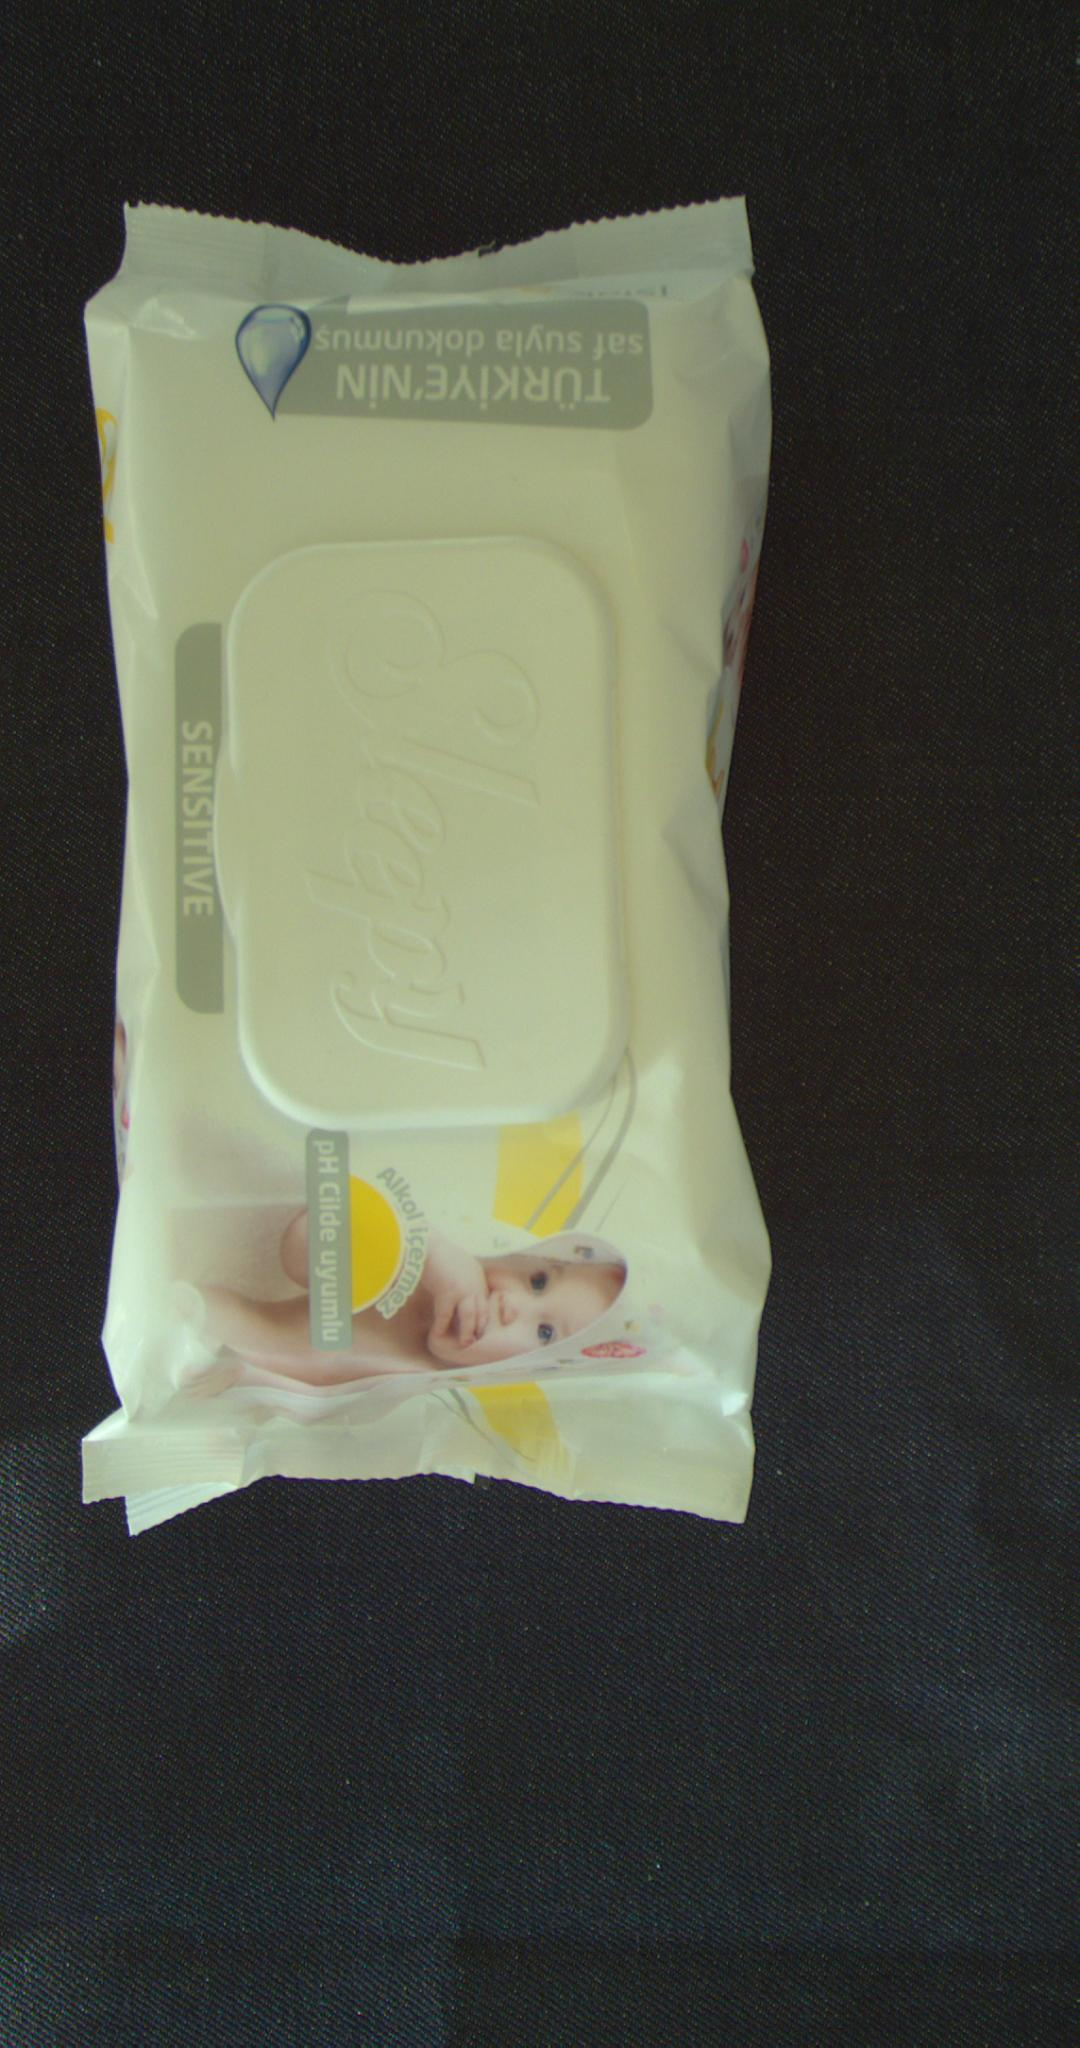kapak: (215, 538, 634, 1132)
